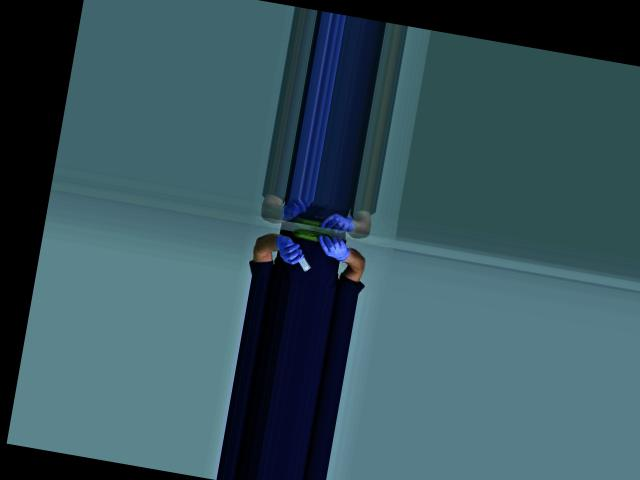cucumber: (291, 227, 331, 243)
